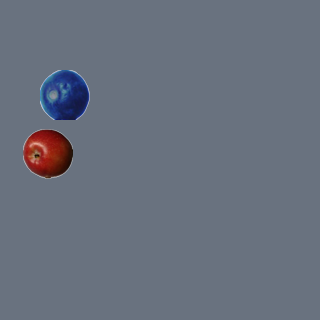Apple Braeburn: (22, 128, 72, 178)
Huckleberry: (39, 69, 89, 119)
